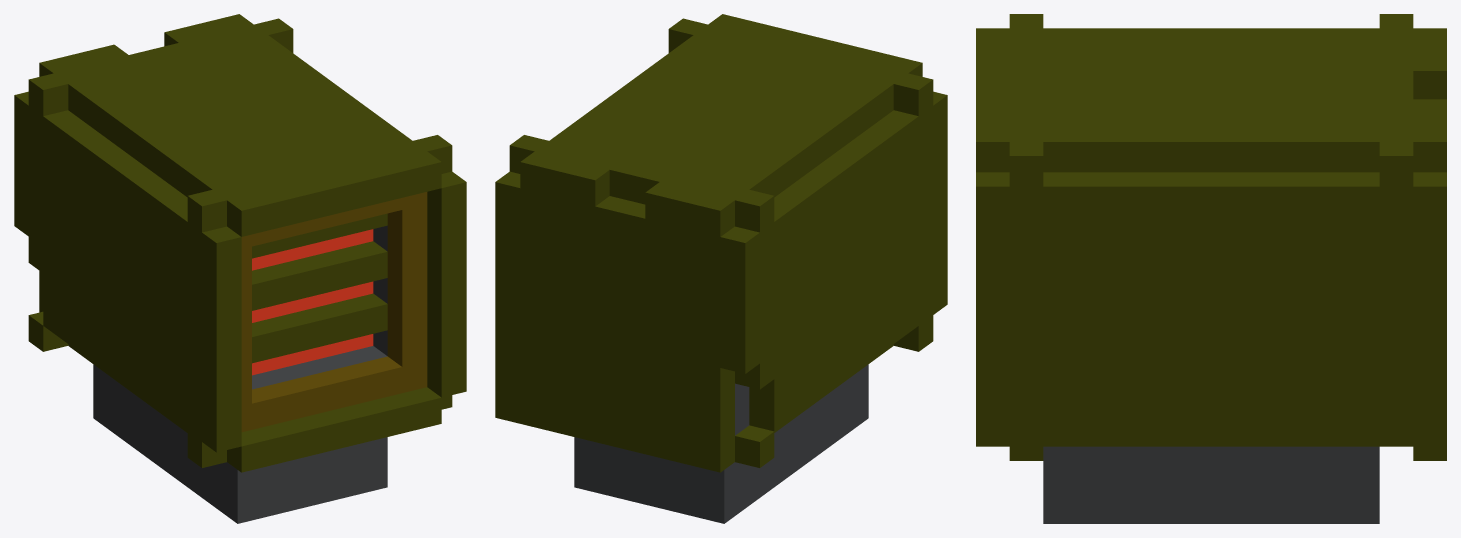
Rendered from Other-12.obj.
3 renders of one model, left to right at view 1: azimuth 30°, elevation 25°; view 2: azimuth 150°, elevation 25°; view 3: azimuth 270°, elevation 25°, orthographic. The views are drawn at different scales.
Size of the model in its own units: 1 by 1.3 by 1.4.
Materials: 1 (1 with a texture image).
